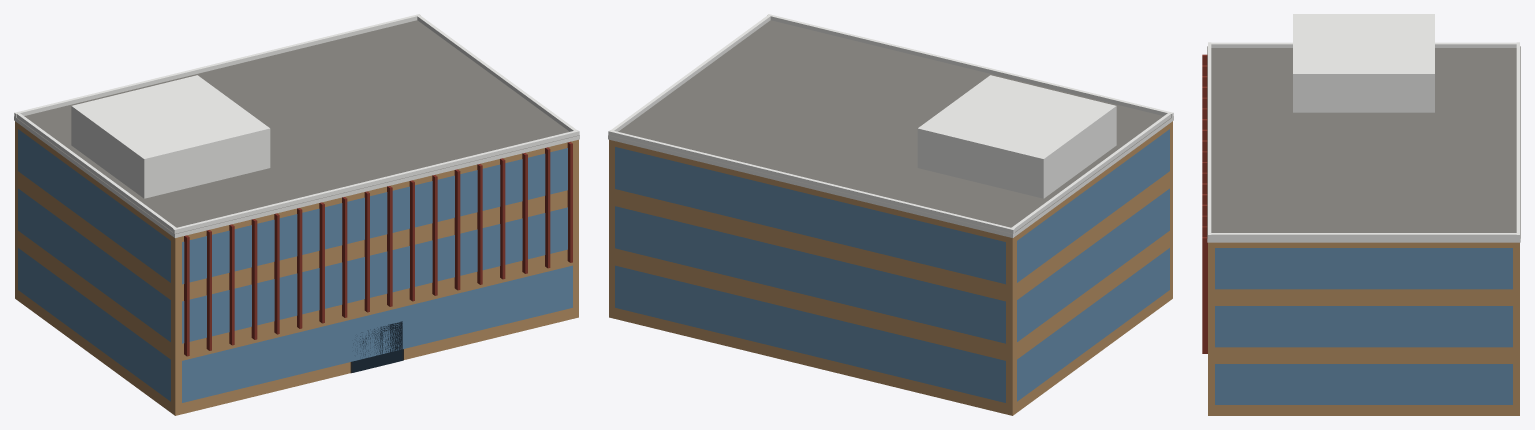
The model's file is bibliotheque.glb.
3 renders of one model, left to right at view 1: azimuth 30°, elevation 25°; view 2: azimuth 150°, elevation 25°; view 3: azimuth 270°, elevation 25°, orthographic. The views are drawn at different scales.
Parts seen in each view (by area): view 1: bibliotheque; view 2: bibliotheque; view 3: bibliotheque.
Part boxes in pixels (x1,y1,x2,y2): bibliotheque: (14, 14, 579, 415); bibliotheque: (608, 14, 1173, 415); bibliotheque: (1202, 14, 1520, 415).
Bounding box in the file's own units: 32.1 × 16.8 × 22.45.
Materials: 1 (1 with a texture image).
